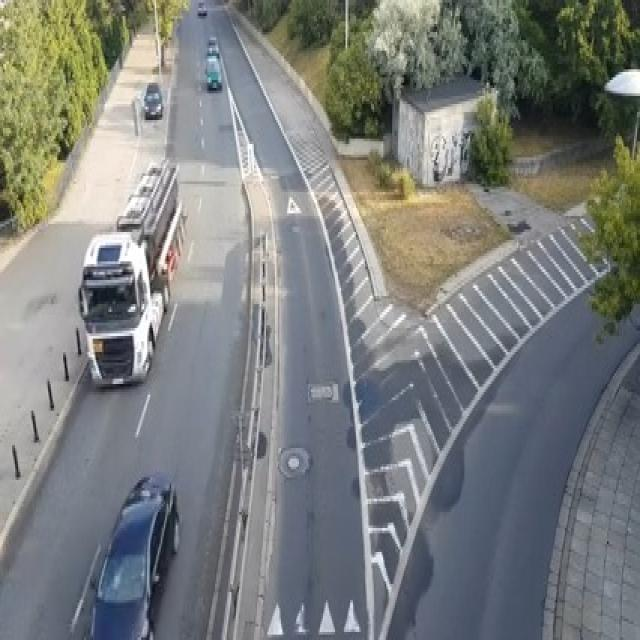car: (87, 470, 179, 638), (143, 80, 162, 117), (205, 56, 222, 88), (206, 35, 219, 56), (197, 0, 206, 16)
